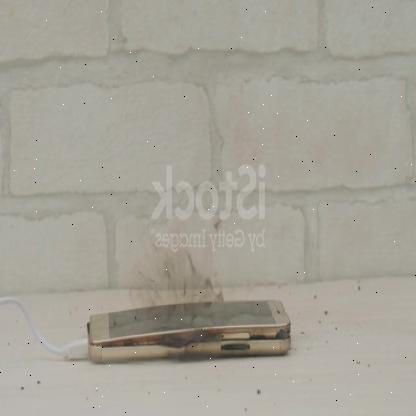smoke: (124, 241, 220, 347)
